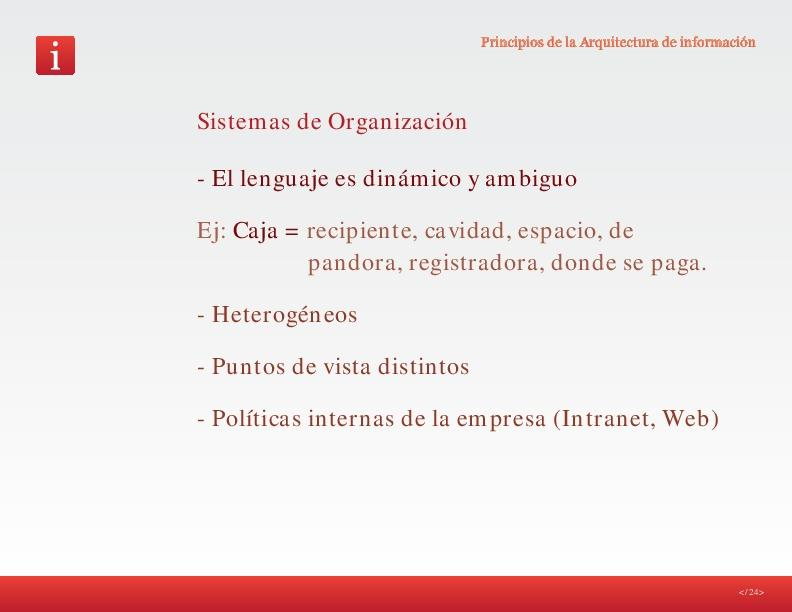paragraph: (186, 162, 758, 452)
subtitle: (190, 96, 488, 140)
title: (472, 29, 767, 56)
